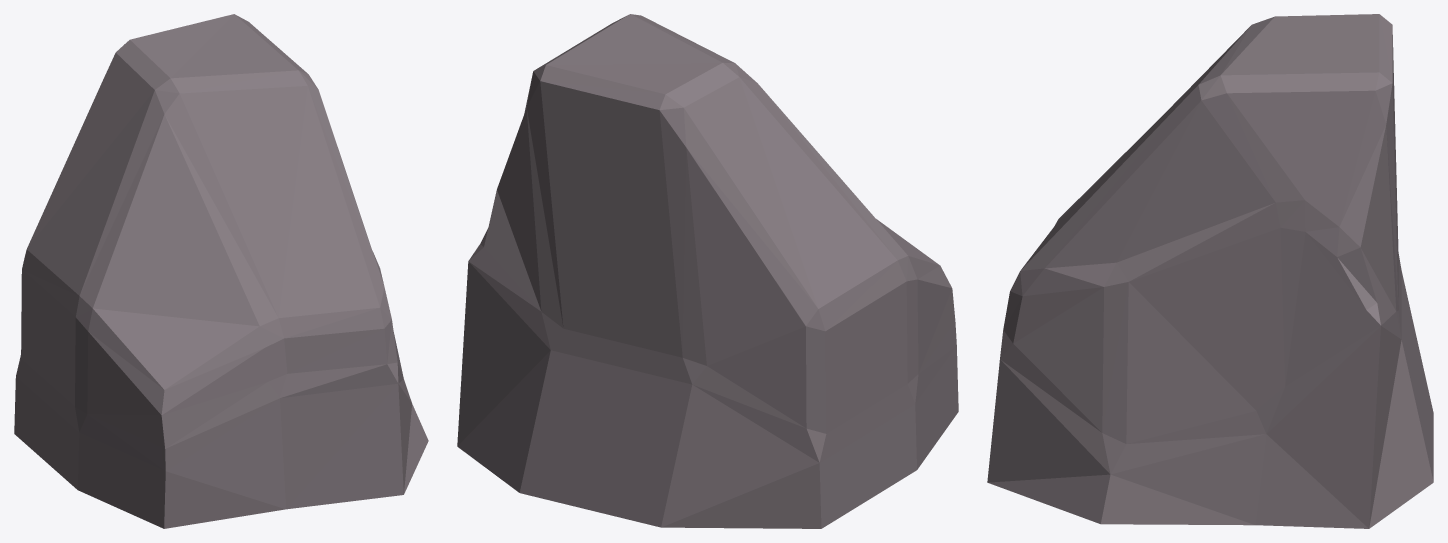
File: Stone-2.obj
The picture shows the model from 3 angles, left to right: view 1: azimuth 30°, elevation 25°; view 2: azimuth 150°, elevation 25°; view 3: azimuth 270°, elevation 25°; orthographic projection. The views are drawn at different scales.
Visible parts, largest first — view 1: Stone-2; view 2: Stone-2; view 3: Stone-2.
Boxes of the visible parts, x1,y1,x2,y2 form: Stone-2: (14,14,428,528); Stone-2: (457,14,958,528); Stone-2: (987,14,1433,528).
Size of the model in its own units: 1.23 by 1.3 by 1.28.
